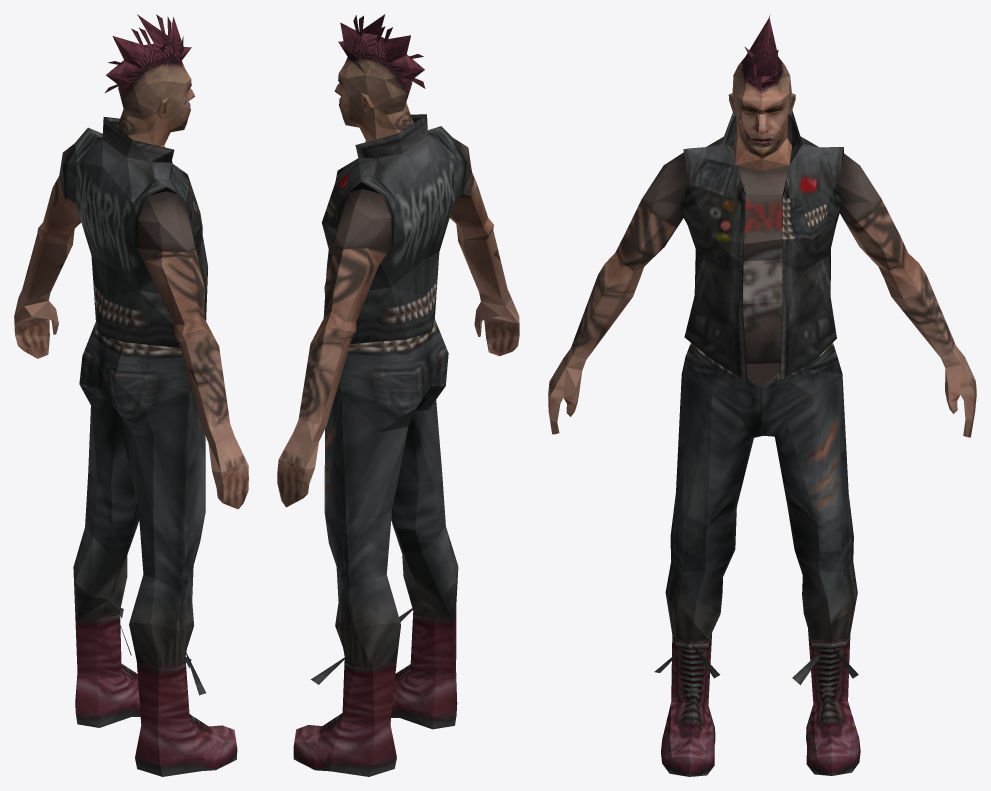
The model's file is vwmycr.obj.
3 renders of one model, left to right at view 1: azimuth 30°, elevation 25°; view 2: azimuth 150°, elevation 25°; view 3: azimuth 270°, elevation 25°, orthographic.
Visible parts, largest first — view 1: _Pelvis; view 2: _Pelvis; view 3: _Pelvis.
Boxes of the visible parts, left/top/right/bottom form: _Pelvis: left=14, top=14, right=248, bottom=776; _Pelvis: left=277, top=14, right=519, bottom=776; _Pelvis: left=548, top=15, right=976, bottom=776.
Bounding box in the file's own units: 0.289 × 1.9 × 1.
1 material, 1 textured.
